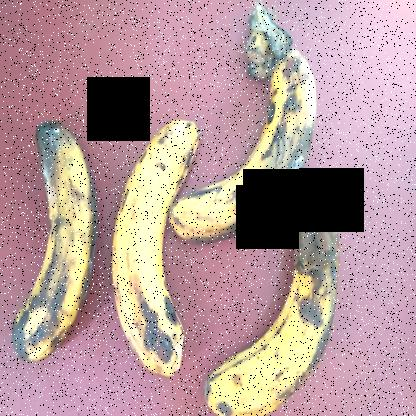overripe: (107, 100, 215, 398)
rotten: (204, 185, 360, 415), (1, 83, 101, 368), (195, 38, 325, 257)
